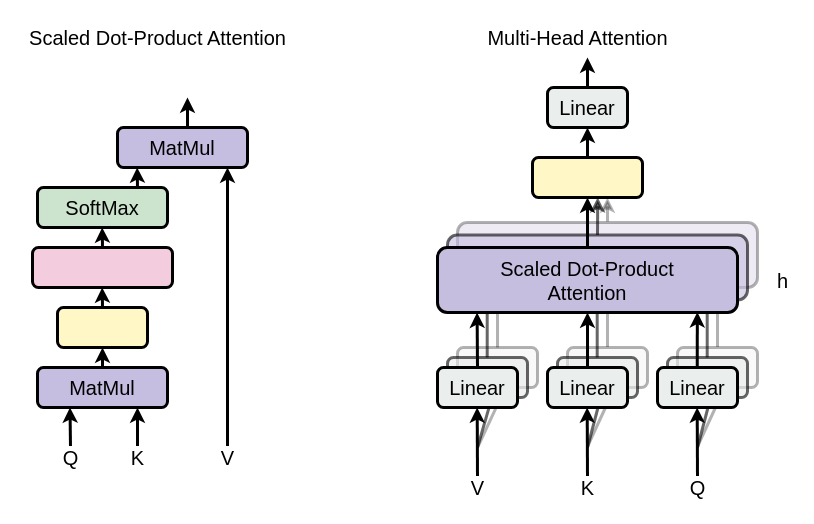
This 814x524 diagram has some shape labels left out. The box of each missing label's shape, as (x1, y1, x2, y2) in pixels:
Concat: (530, 156, 644, 198)
Mask (opt.): (30, 246, 174, 288)
Scale: (56, 306, 148, 348)
